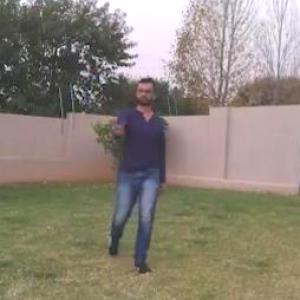takeoff-hand: (102, 112, 128, 145)
